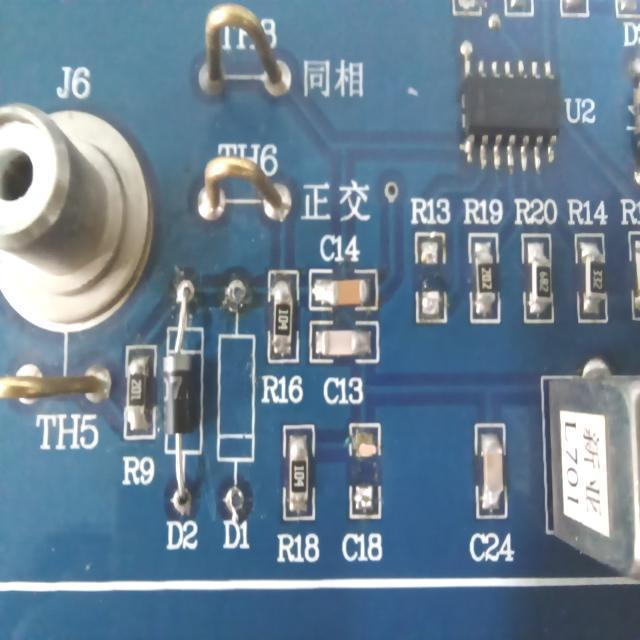Missing component: (210, 262, 262, 560), (402, 187, 459, 334), (343, 418, 390, 572)
